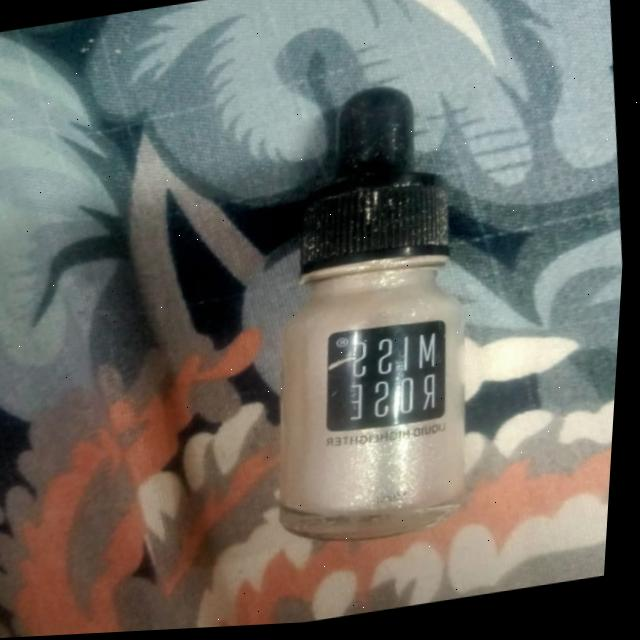serum: (209, 70, 525, 566)
